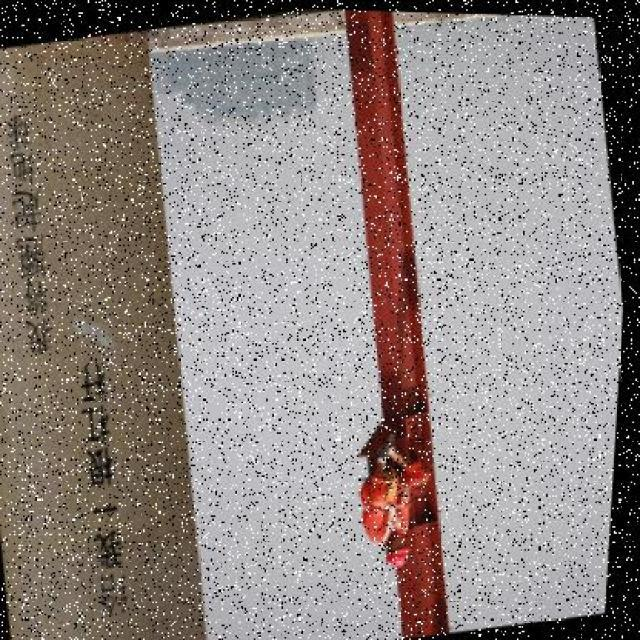helmet: (387, 529, 424, 570)
